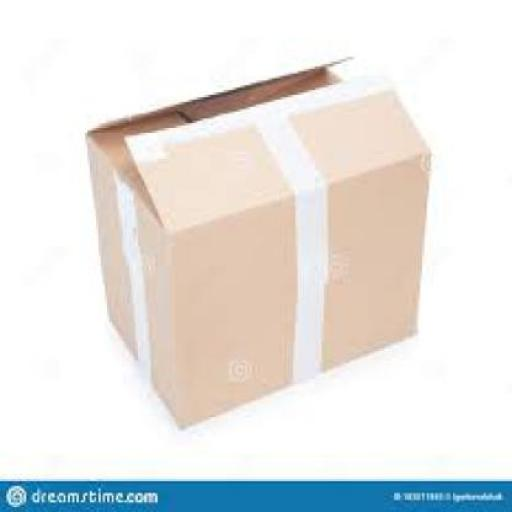cardboard: (85, 54, 429, 427)
